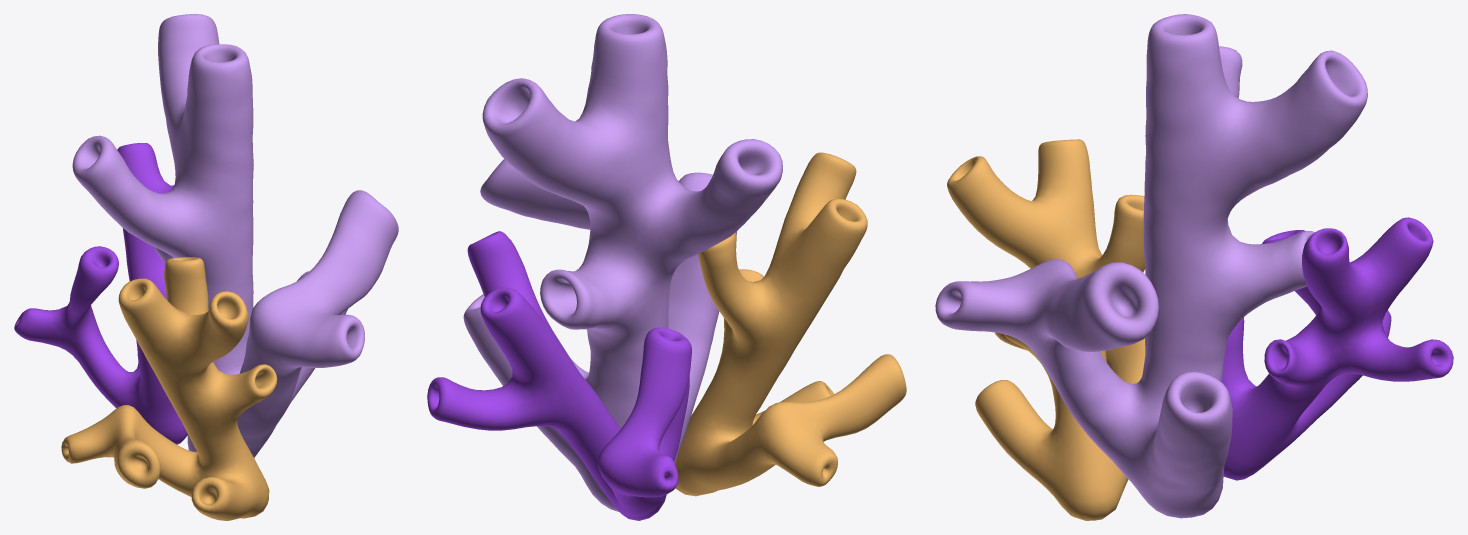
File: Coral.fbx
The picture shows the model from 3 angles, left to right: view 1: azimuth 30°, elevation 25°; view 2: azimuth 150°, elevation 25°; view 3: azimuth 270°, elevation 25°; orthographic projection. The views are drawn at different scales.
Parts seen in each view (by area): view 1: Purple, Orange, Dark_Purple; view 2: Purple, Orange, Dark_Purple; view 3: Purple, Orange, Dark_Purple.
Part boxes in pixels (x1,y1,x2,y2): Purple: [72, 14, 398, 457]; Orange: [61, 257, 277, 520]; Dark_Purple: [14, 143, 187, 444]; Purple: [463, 14, 782, 511]; Orange: [675, 152, 906, 496]; Dark_Purple: [427, 231, 691, 520]; Purple: [935, 14, 1367, 518]; Orange: [947, 139, 1145, 520]; Dark_Purple: [1221, 217, 1453, 480].
Bounding box in the file's own units: 10.29 × 13.24 × 12.37.
